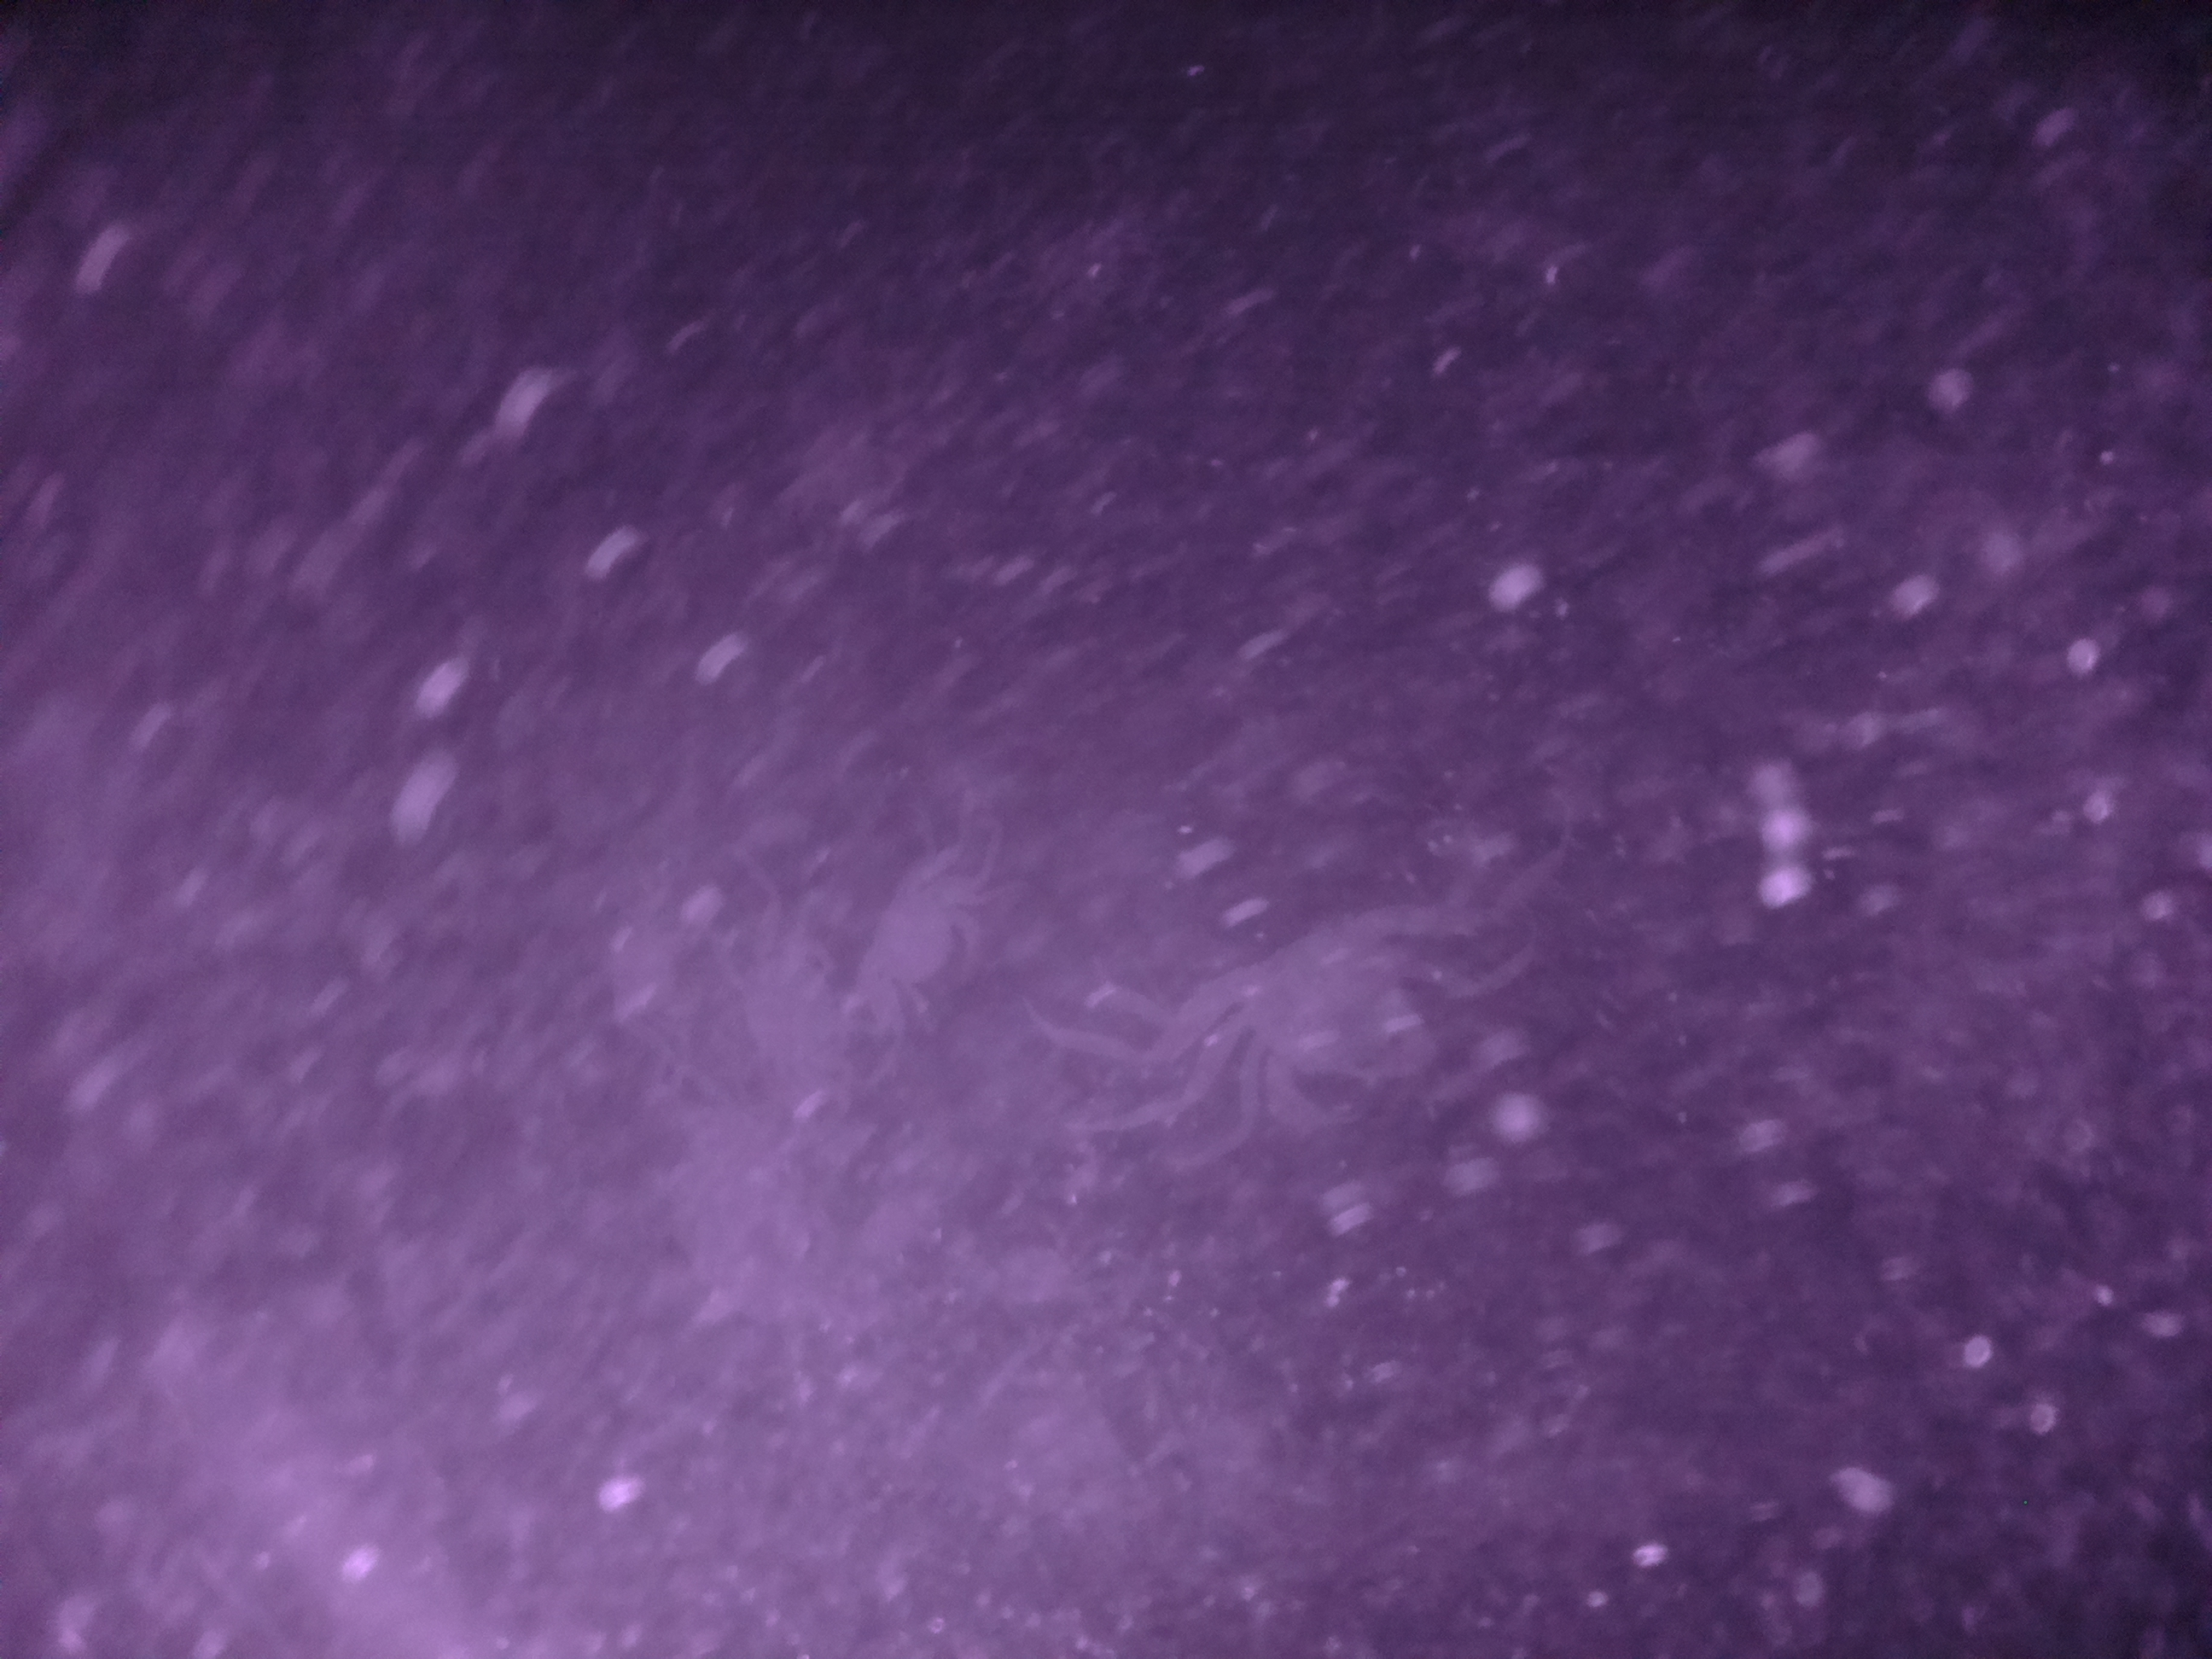Crab: (1143, 850, 1489, 1145), (840, 817, 977, 1046)
